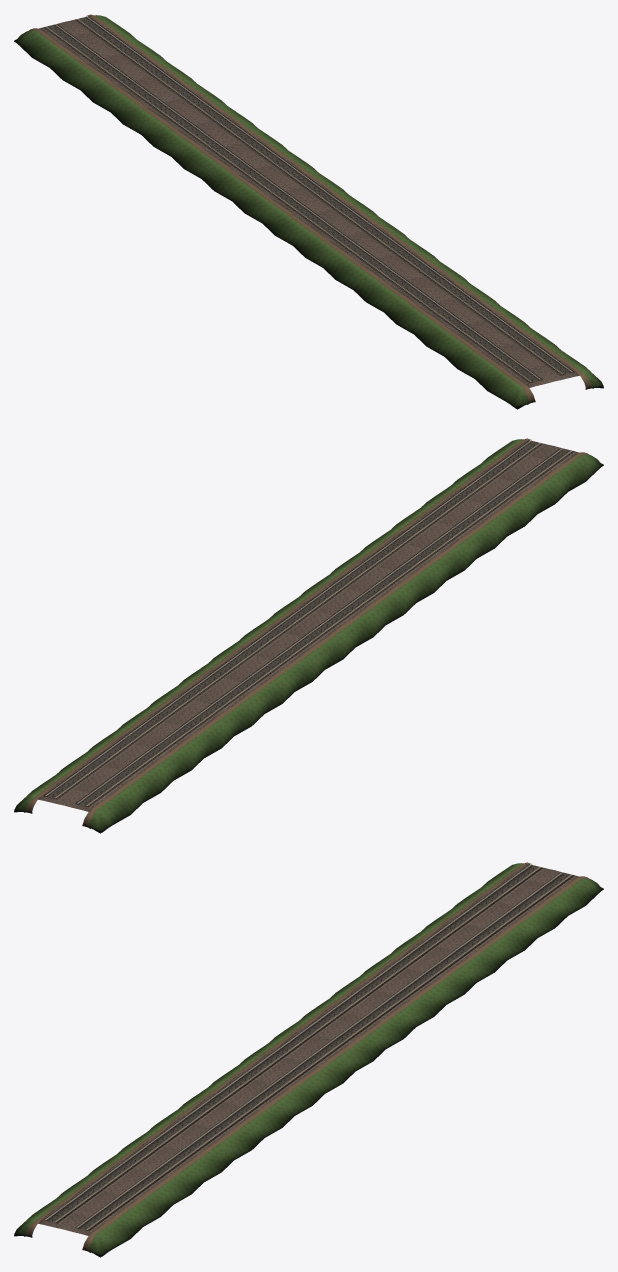
File: KI_RAIL00_400.glb
3 renders of one model, top to bottom at view 1: azimuth 30°, elevation 25°; view 2: azimuth 150°, elevation 25°; view 3: azimuth 330°, elevation 25°, orthographic.
Parts seen in each view (by area): view 1: Jari_All, R000_RG_R, R000_RG_L; view 2: Jari_All, R000_RG_R, R000_RG_L; view 3: Jari_All, R000_RG_L, R000_RG_R.
Part boxes in pixels (left/top/right/bottom): Jari_All: left=14, top=14, right=603, bottom=409; R000_RG_R: left=46, top=18, right=563, bottom=381; R000_RG_L: left=54, top=16, right=571, bottom=379; Jari_All: left=14, top=438, right=603, bottom=833; R000_RG_R: left=54, top=442, right=571, bottom=805; R000_RG_L: left=46, top=440, right=563, bottom=803; Jari_All: left=14, top=862, right=603, bottom=1257; R000_RG_L: left=54, top=866, right=571, bottom=1229; R000_RG_R: left=46, top=864, right=563, bottom=1227.
Size of the model in its own units: 46.85 by 7.05 by 415.
8 materials, 7 textured.
